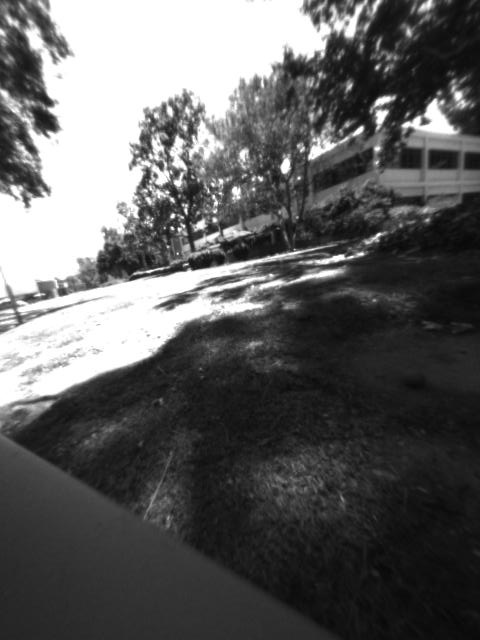dogtoy: (395, 358, 434, 395)
